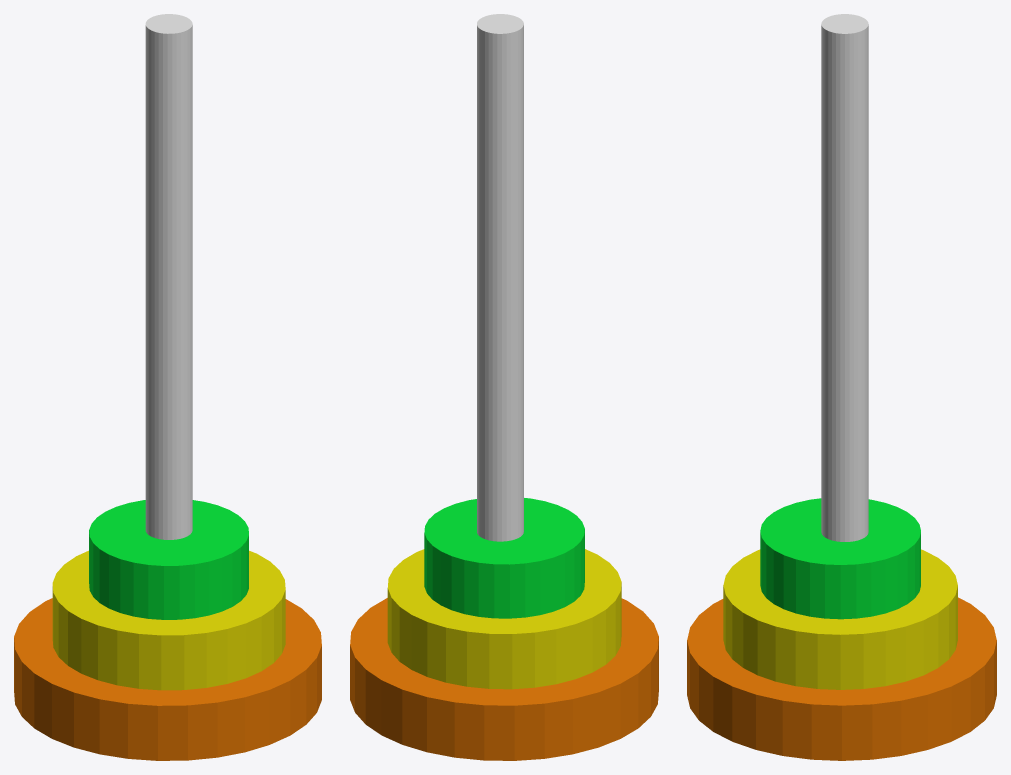
The model's file is Towers of Hanoi 3 ring top second third.fbx.
3 renders of one model, left to right at view 1: azimuth 30°, elevation 25°; view 2: azimuth 150°, elevation 25°; view 3: azimuth 270°, elevation 25°, orthographic.
Parts seen in each view (by area): view 1: Cylinder.002, Cylinder, Cylinder.003, Cylinder.004; view 2: Cylinder.002, Cylinder, Cylinder.003, Cylinder.004; view 3: Cylinder.002, Cylinder, Cylinder.003, Cylinder.004.
Boxes of the visible parts, x1,y1,x2,y2 form: Cylinder.002: (14, 598, 321, 760); Cylinder: (145, 14, 192, 539); Cylinder.003: (52, 550, 285, 690); Cylinder.004: (89, 500, 248, 619); Cylinder.002: (350, 598, 658, 760); Cylinder: (477, 14, 523, 541); Cylinder.003: (387, 549, 621, 689); Cylinder.004: (424, 498, 584, 618); Cylinder.002: (687, 597, 996, 760); Cylinder: (821, 14, 868, 541); Cylinder.003: (723, 549, 957, 689); Cylinder.004: (760, 498, 920, 619).
Size of the model in its own units: 211 by 507 by 211.
